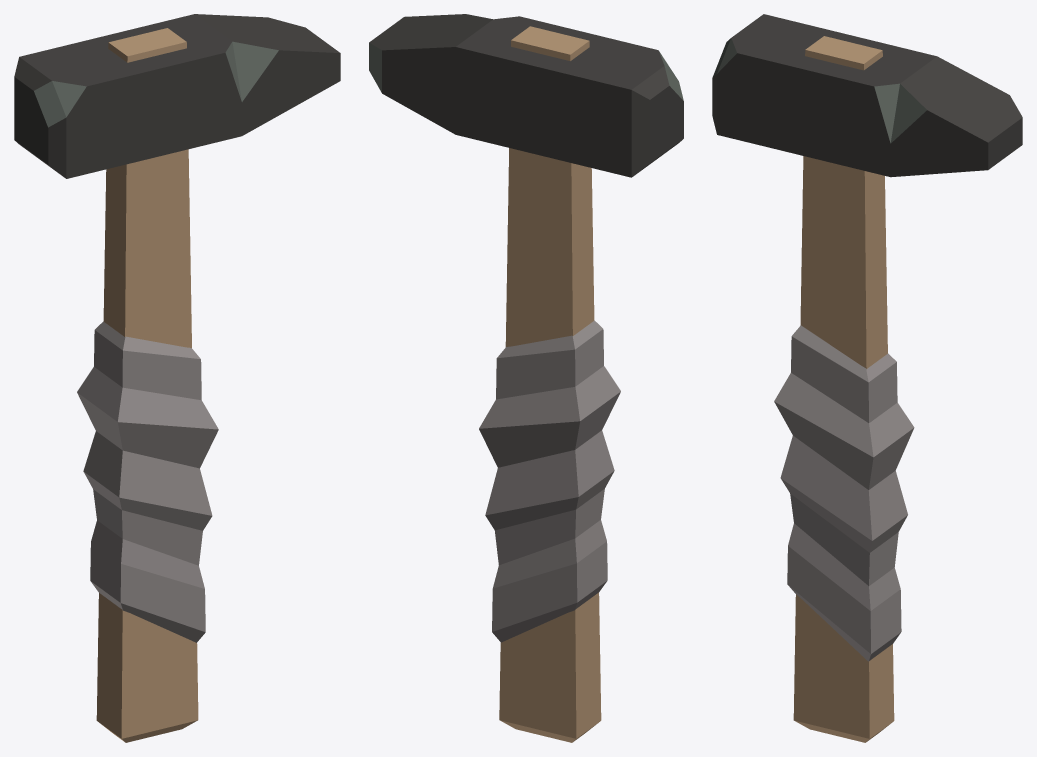
Rendered from SM_Hammer.gltf.
3 renders of one model, left to right at view 1: azimuth 30°, elevation 25°; view 2: azimuth 150°, elevation 25°; view 3: azimuth 330°, elevation 25°, orthographic.
Parts seen in each view (by area): view 1: SM_Hammer; view 2: SM_Hammer; view 3: SM_Hammer.
Part boxes in pixels (bbox=[...]): SM_Hammer: bbox=[14, 14, 340, 742]; SM_Hammer: bbox=[369, 14, 683, 742]; SM_Hammer: bbox=[712, 14, 1022, 742].
Size of the model in its own units: 0.1891 by 0.4357 by 0.0541.
1 material, 1 textured.
